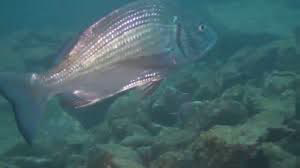kurodai: (0, 1, 228, 135)
